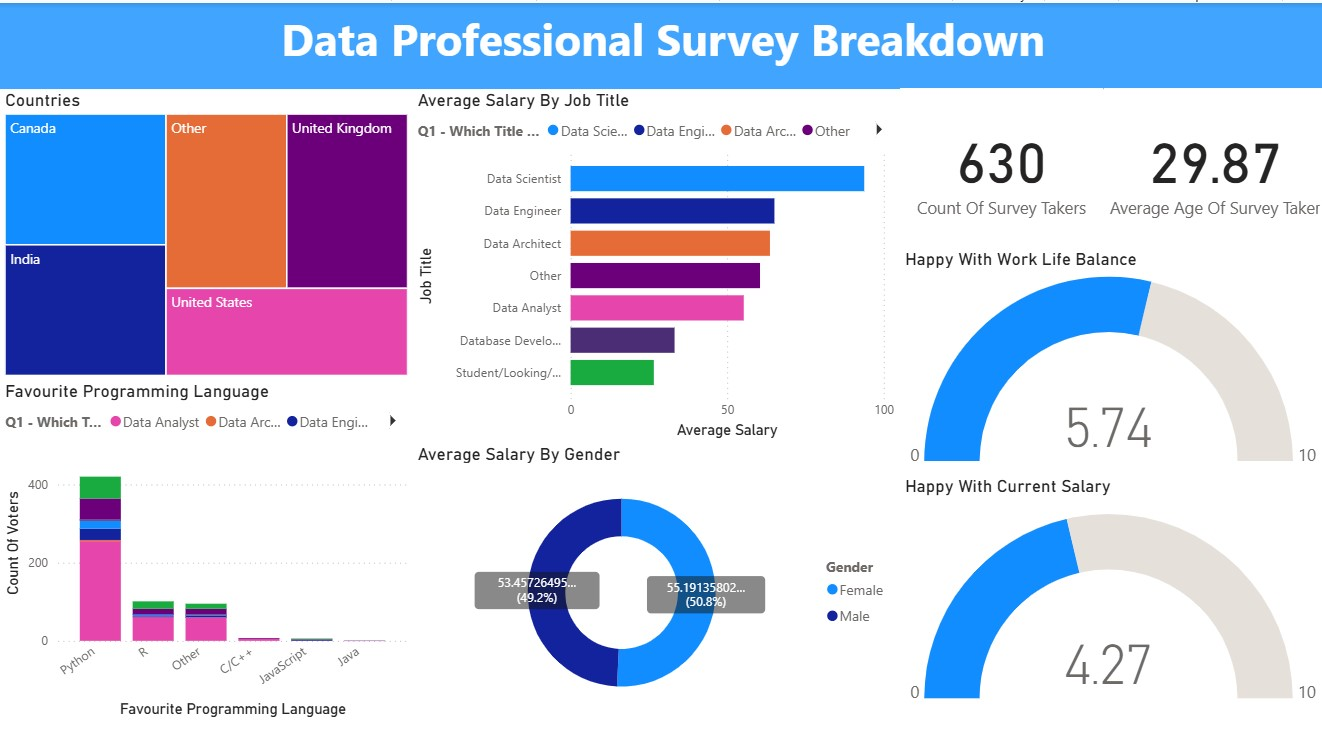

What the dashboard file says about the page in this screenshot:
{"tool":"powerbi","page":{"name":"Page 1","canvas":[1280,720],"ordinal":0},"visuals":[{"type":"textbox","box":[0,0,1280,82.9],"z":0},{"type":"card","fields":{"Values":["Count(Data Professional Survey.Unique ID)"]},"box":[868.6,82.3,196.2,153.7],"z":1000},{"type":"card","fields":{"Values":["Avg(Data Professional Survey.Q10 - Current Age)"]},"box":[1064.8,82.3,215.4,153.7],"z":2000},{"type":"barChart","title":"Average Salary By Job Title","fields":{"Y":["Avg(Data Professional Survey.Average Salary)"],"Category":["Data Professional Survey.Q1 - Which Title Best Fits your Current Role?.1"],"Series":["Data Professional Survey.Q1 - Which Title Best Fits your Current Role?.1"]},"box":[398.6,82.9,470,341.4],"z":3000},{"type":"columnChart","title":"Favourite Programming Language","fields":{"Category":["Data Professional Survey.Q5 - Favorite Programming Language.1"],"Y":["CountNonNull(Data Professional Survey.Unique ID)"],"Series":["Data Professional Survey.Q1 - Which Title Best Fits your Current Role?.1"]},"box":[0,364.3,398.6,330],"z":4000},{"type":"treemap","title":"Countries","fields":{"Group":["Data Professional Survey.Q11 - Which Country do you live in?.1"],"Values":["Count(Data Professional Survey.Q11 - Which Country do you live in?.1)"]},"box":[0,82.9,398.6,281.4],"z":5000},{"type":"gauge","title":"Happy With  Current Salary","fields":{"Y":["Avg(Data Professional Survey.Q6 - How Happy are you in your Current Position with the following? (Salary))"],"MinValue":["Min(Data Professional Survey.Q6 - How Happy are you in your Current Position with the following? (Salary))1"],"MaxValue":["Max(Data Professional Survey.Q6 - How Happy are you in your Current Position with the following? (Salary))2"]},"box":[868.6,455.7,411.4,238.6],"z":5001},{"type":"gauge","title":"Happy With Work Life Balance","fields":{"Y":["Avg(Data Professional Survey.Q6 - How Happy are you in your Current Position with the following? (Work/Life Balance))"],"MinValue":["Min(Data Professional Survey.Q6 - How Happy are you in your Current Position with the following? (Work/Life Balance))1"],"MaxValue":["Max(Data Professional Survey.Q6 - How Happy are you in your Current Position with the following? (Work/Life Balance))2"]},"box":[868.6,236,411.7,219.6],"z":5002},{"type":"donutChart","title":"Average Salary By Gender","fields":{"Category":["Data Professional Survey.Q9 - Male/Female?"],"Y":["Avg(Data Professional Survey.Average Salary)"]},"box":[398.6,424.3,470,270],"z":5003}]}

Visuals, with their boxes in screenshot pixels (x1, y1, x2, y2), scaled from the page's 1280x720 canvas onto the 1322x732 screenshot:
textbox: left=0, top=0, right=1321, bottom=84
card - Count(Data Professional Survey.Unique ID): left=897, top=84, right=1100, bottom=240
card - Avg(Data Professional Survey.Q10 - Current Age): left=1100, top=84, right=1321, bottom=240
"Average Salary By Job Title" barChart: left=412, top=84, right=897, bottom=431
"Favourite Programming Language" columnChart: left=0, top=370, right=412, bottom=706
"Countries" treemap: left=0, top=84, right=412, bottom=370
"Happy With  Current Salary" gauge: left=897, top=463, right=1321, bottom=706
"Happy With Work Life Balance" gauge: left=897, top=240, right=1321, bottom=463
"Average Salary By Gender" donutChart: left=412, top=431, right=897, bottom=706
